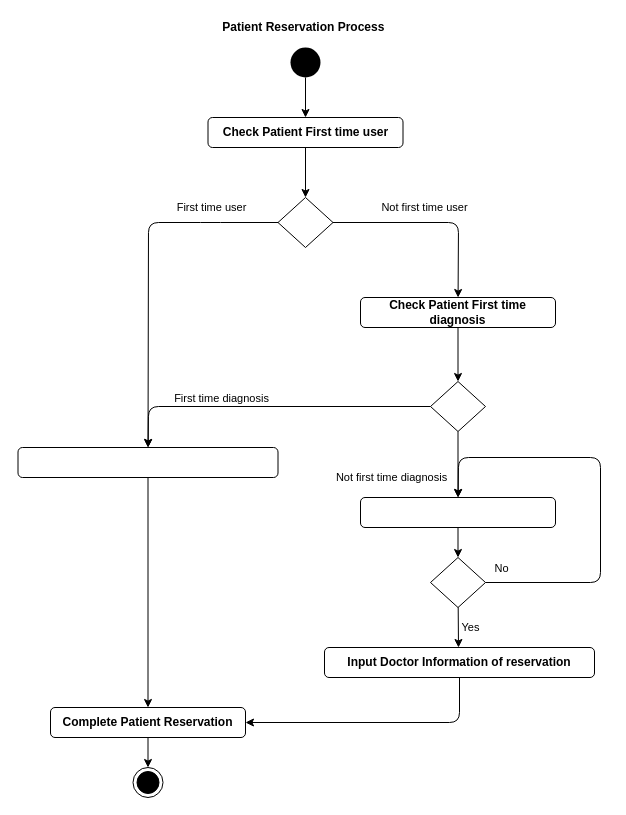
Some shapes in this 626 by 815 pixel diagram are drawn without their labels. The box of each missing label's shape, as (x1, y1, x2, y2) in pixels:
Connect Patient with Doctor: (360, 496, 556, 528)
Input Patient Information of reservation: (17, 446, 278, 478)
